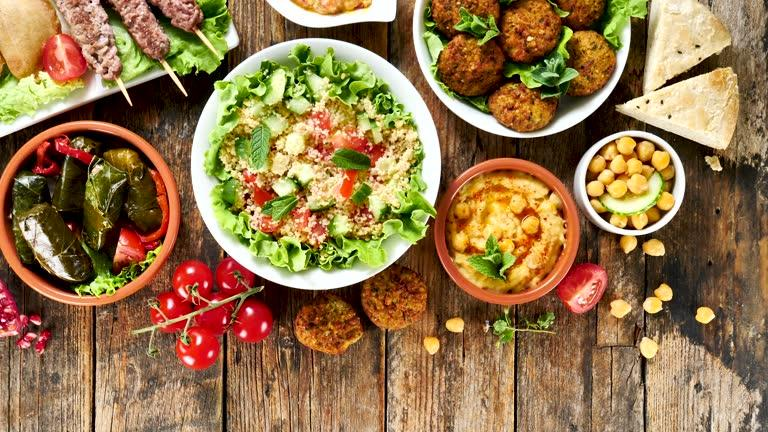Braised Crucian Carp: (190, 38, 433, 294), (1, 0, 237, 144), (0, 119, 176, 306), (416, 0, 625, 140), (433, 158, 578, 303), (574, 130, 683, 236)
